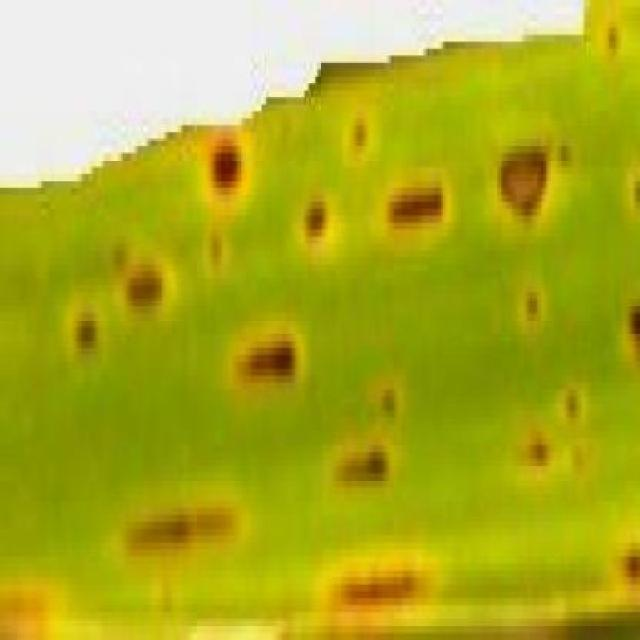Bacterial_Leaf_Blight: (480, 116, 582, 229), (518, 586, 614, 640)
Leaf_Blast: (115, 468, 250, 562), (319, 532, 443, 630), (190, 91, 253, 226), (225, 303, 303, 405), (325, 402, 404, 498), (0, 552, 68, 639), (296, 136, 342, 262), (382, 164, 458, 238), (360, 325, 403, 432), (58, 258, 102, 360), (99, 173, 132, 305), (198, 194, 237, 288), (123, 252, 177, 318), (607, 506, 640, 606), (266, 568, 309, 640), (561, 405, 599, 481), (342, 88, 372, 175), (552, 357, 588, 429), (518, 402, 553, 476), (615, 268, 640, 370), (516, 270, 550, 332), (80, 610, 152, 639), (598, 0, 624, 77), (623, 135, 640, 219), (176, 618, 239, 640), (458, 628, 519, 640)
